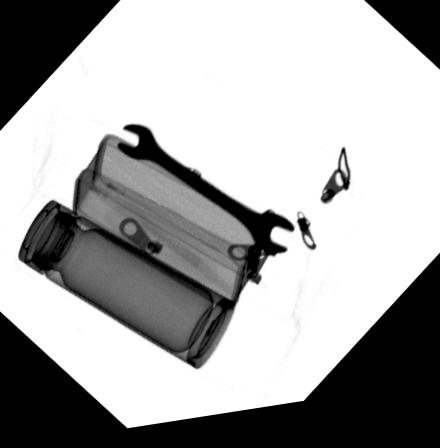Wrench: (113, 125, 296, 265)
